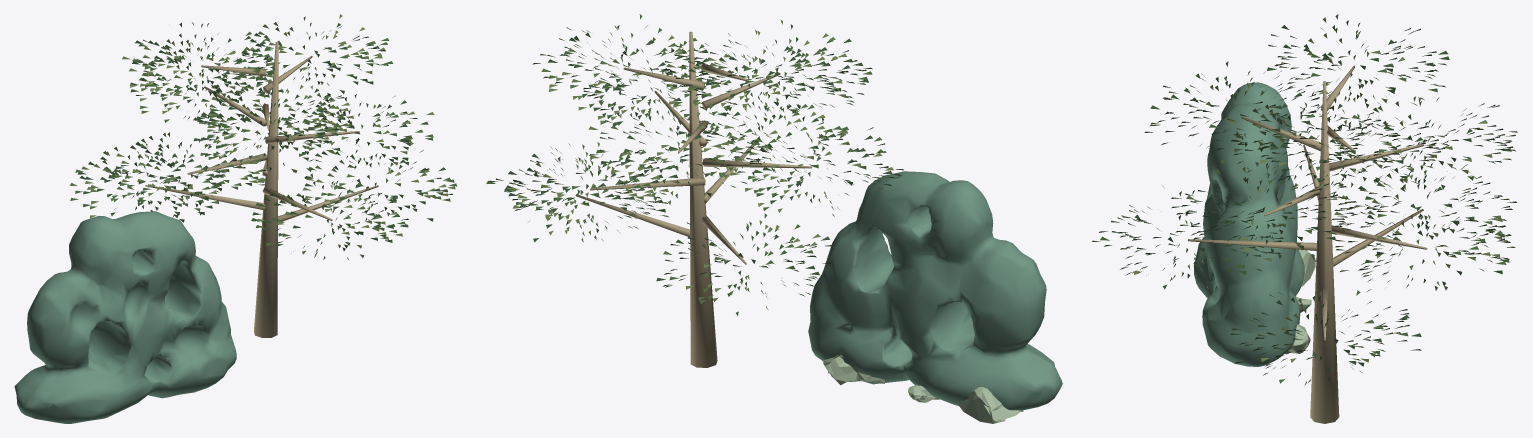
The model's file is qujingtongyou.glb.
The picture shows the model from 3 angles, left to right: view 1: azimuth 30°, elevation 25°; view 2: azimuth 150°, elevation 25°; view 3: azimuth 270°, elevation 25°; orthographic projection. The views are drawn at different scales.
Visible parts, largest first — view 1: Mobile_qujingtongyou_gardenstone, Mobile_qujingtongyou_plants; view 2: Mobile_qujingtongyou_gardenstone, Mobile_qujingtongyou_plants, Mobile_qujingtongyou_limestone; view 3: Mobile_qujingtongyou_plants, Mobile_qujingtongyou_gardenstone, Mobile_qujingtongyou_limestone.
Boxes of the visible parts, x1,y1,x2,y2 form: Mobile_qujingtongyou_gardenstone: (14, 211, 236, 423); Mobile_qujingtongyou_plants: (69, 14, 457, 337); Mobile_qujingtongyou_gardenstone: (808, 171, 1062, 410); Mobile_qujingtongyou_plants: (486, 14, 903, 367); Mobile_qujingtongyou_limestone: (823, 354, 1023, 423); Mobile_qujingtongyou_plants: (1092, 14, 1517, 423); Mobile_qujingtongyou_gardenstone: (1193, 82, 1304, 366); Mobile_qujingtongyou_limestone: (1285, 249, 1316, 354).
Size of the model in its own units: 16.68 by 10.09 by 11.27.
